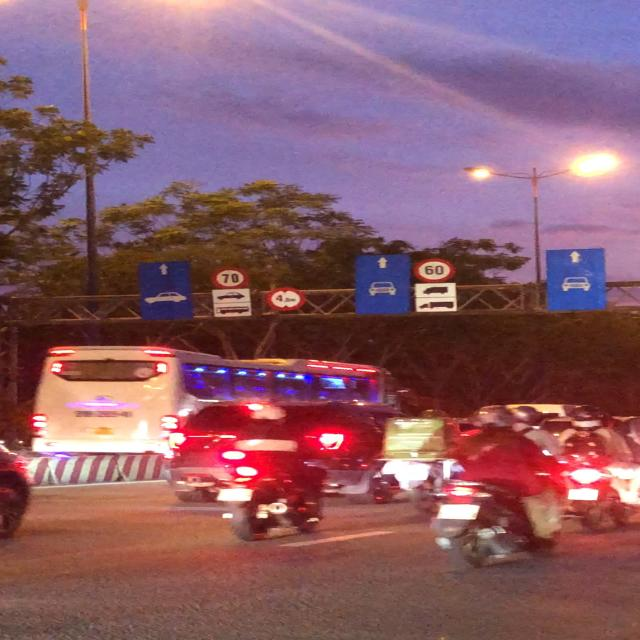Bien bao han che chieu cao: (262, 286, 313, 314)
Bien bao toc do toi da cho phep: (411, 256, 461, 284), (206, 264, 252, 291)
